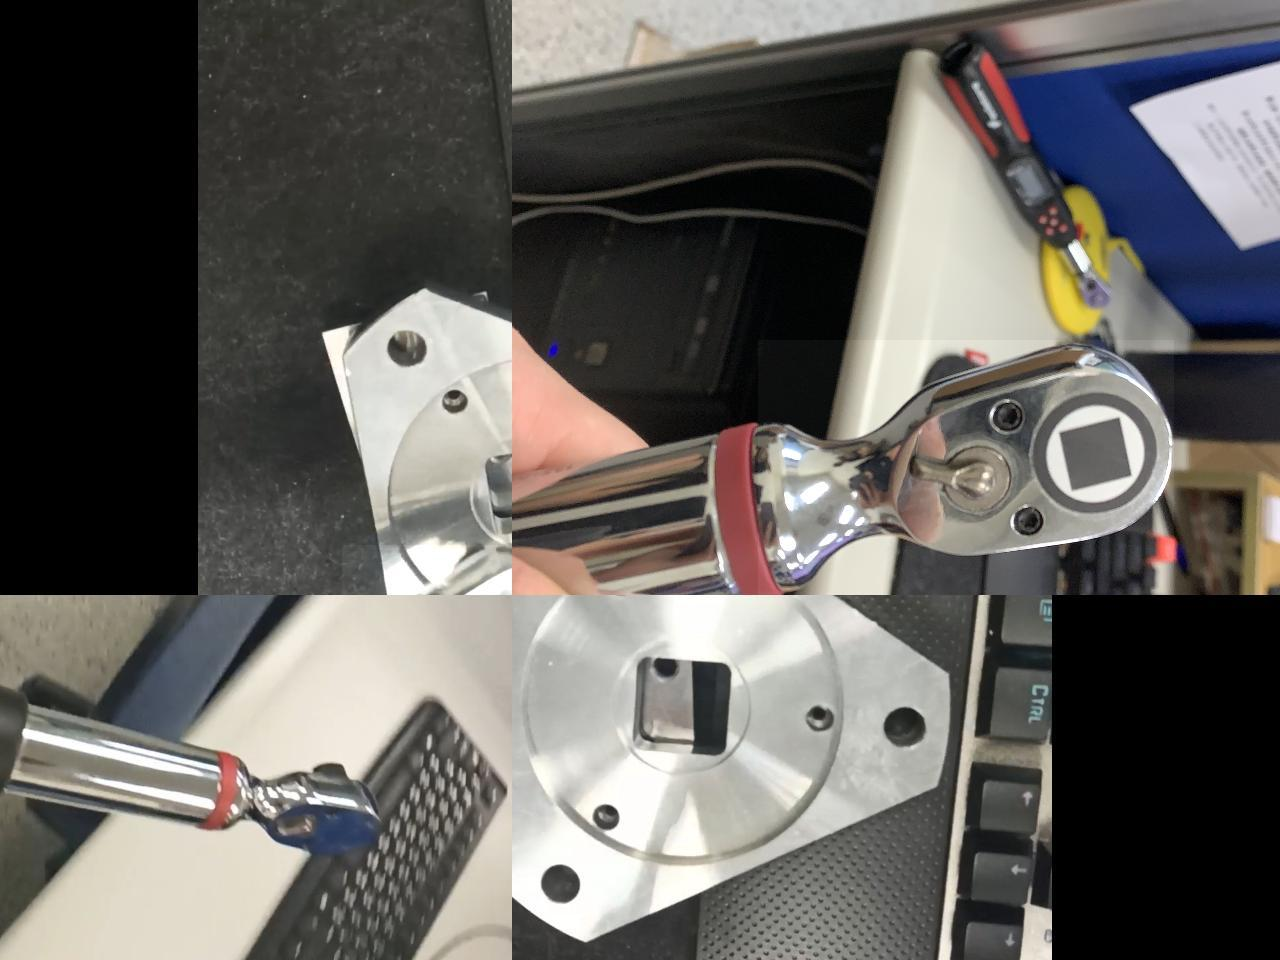Tool: (759, 339, 1171, 596), (355, 544, 505, 595)
hole: (873, 701, 937, 753), (531, 862, 592, 913), (386, 327, 437, 378), (801, 701, 844, 743), (593, 801, 631, 838), (442, 386, 469, 414)
